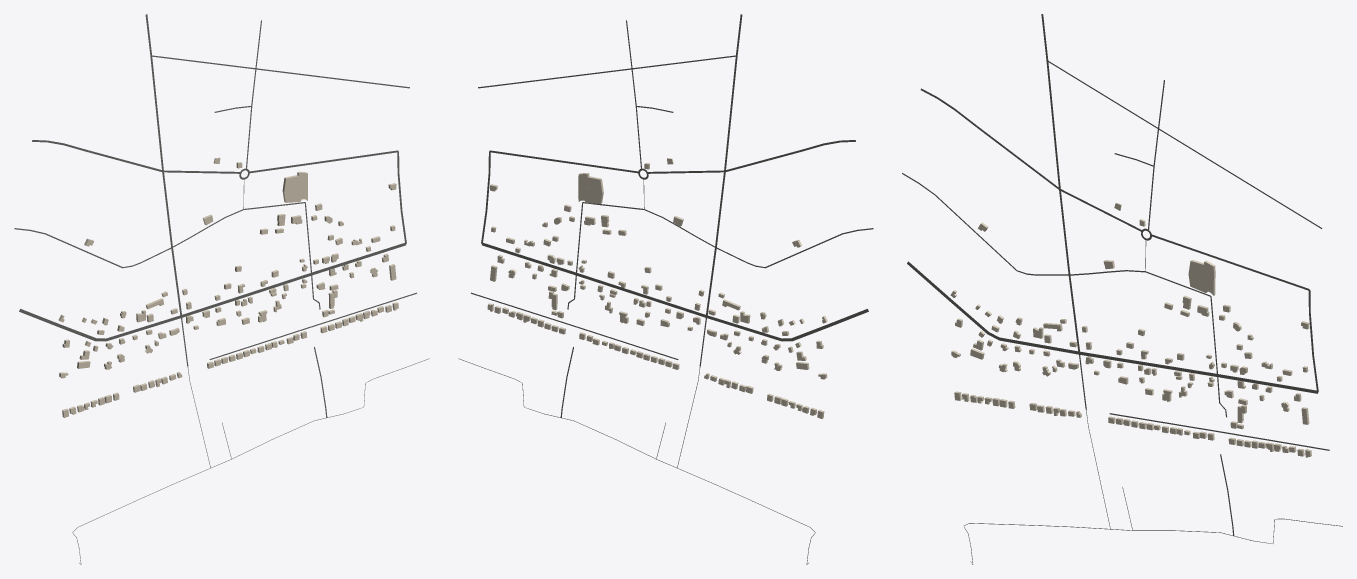
The model's file is historic-palestine-07_26_3492_3207.glb.
The picture shows the model from 3 angles, left to right: view 1: azimuth 30°, elevation 25°; view 2: azimuth 150°, elevation 25°; view 3: azimuth 330°, elevation 25°; orthographic projection. The views are drawn at different scales.
Visible parts, largest first — view 1: Road האילנות, Road דרך אפק, Building_.093, Road הבנים, Road הגפנים; view 2: Road האילנות, Road דרך אפק, Building_.093, Road הבנים, Road הגפנים; view 3: Road האילנות, Road דרך אפק, Building_.093, Road הבנים, Road הגפנים, Road הדקלים.
Boxes of the visible parts, bbox=[...] form: Road האילנות: bbox=[19, 243, 405, 341]; Road דרך אפק: bbox=[145, 14, 181, 316]; Building_.093: bbox=[282, 171, 307, 202]; Road הבנים: bbox=[14, 202, 305, 268]; Road הגפנים: bbox=[32, 140, 239, 173]; Road האילנות: bbox=[482, 242, 868, 341]; Road דרך אפק: bbox=[706, 14, 742, 316]; Building_.093: bbox=[578, 173, 603, 203]; Road הבנים: bbox=[582, 202, 873, 268]; Road הגפנים: bbox=[648, 140, 855, 173]; Road האילנות: bbox=[907, 261, 1317, 393]; Road דרך אפק: bbox=[1041, 14, 1080, 352]; Building_.093: bbox=[1188, 260, 1215, 295]; Road הבנים: bbox=[902, 173, 1210, 296]; Road הגפנים: bbox=[920, 88, 1142, 231]; Road הדקלים: bbox=[1048, 60, 1322, 228].
Bounding box in the file's own units: 1155 × 1421 × 8.7.
